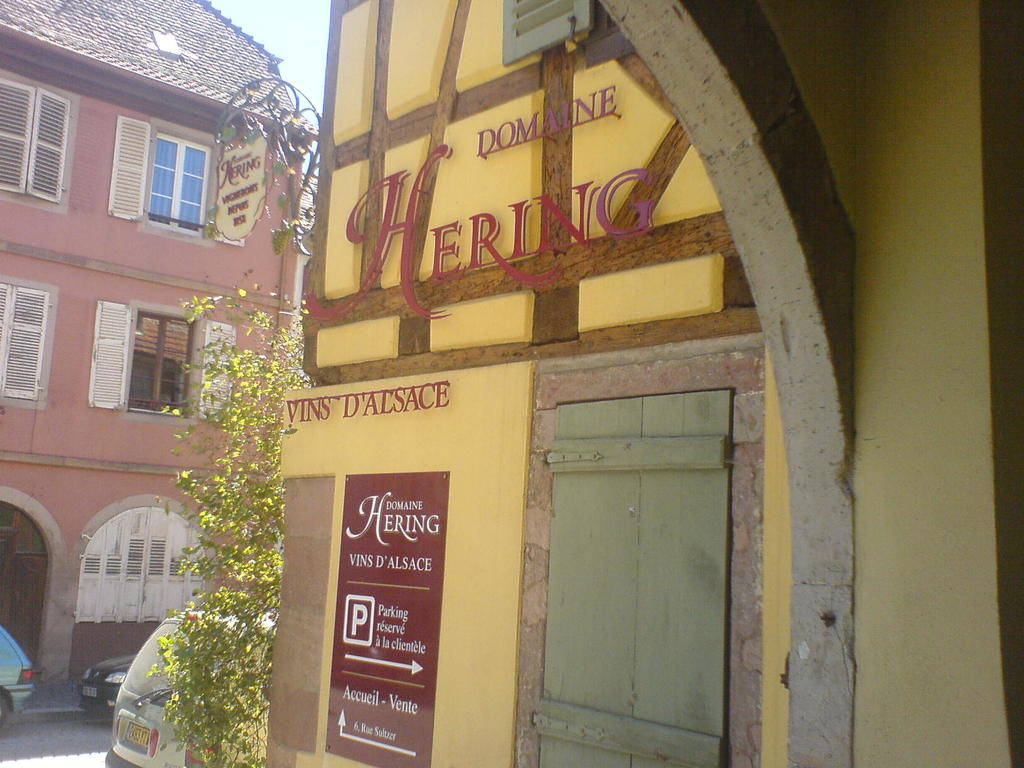door: (558, 411, 731, 768)
